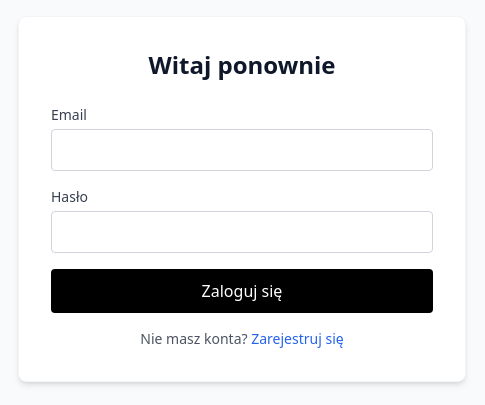
Test case: Login › loguje i przekierowuje na /dashboard
Type "owner@test.local" into the field.
click(242, 150); type("owner@test.local")  # box [51,129,433,171]
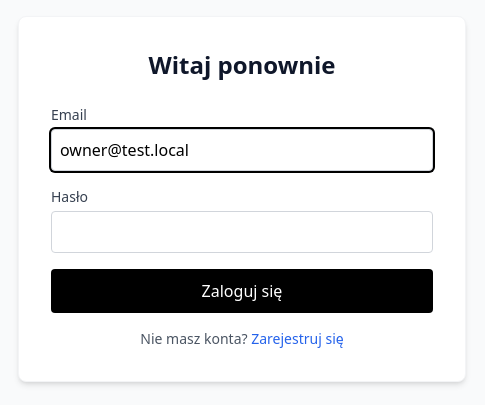
Type "secret" into the password field.
click(242, 232); type("secret")  # box [51,211,433,253]
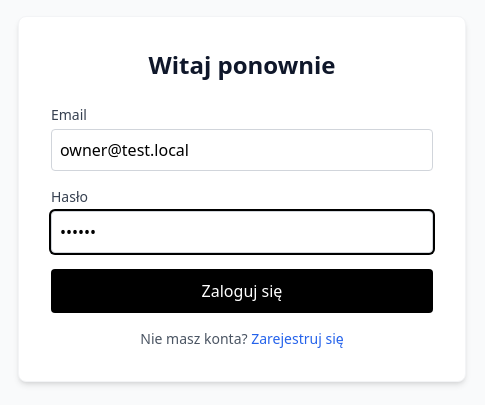
Click the button "Zaloguj się".
click(242, 291)  # box [51,269,433,313]
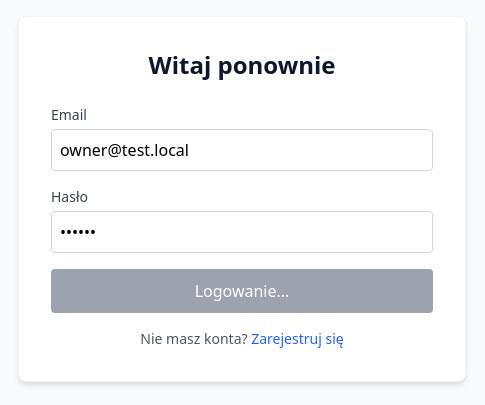
Now the button "Logowanie..." is disabled, box [51,269,433,313]
